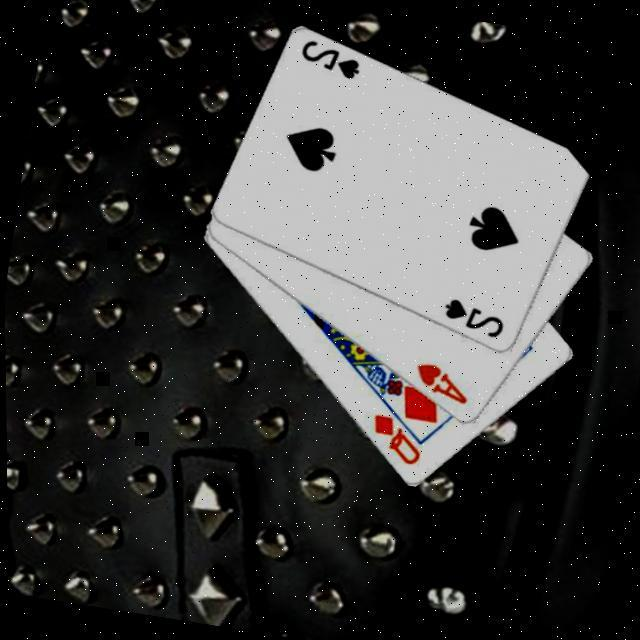2S: (436, 296, 508, 344), (293, 38, 365, 86)
AH: (405, 360, 474, 411)
QD: (361, 412, 427, 472)
